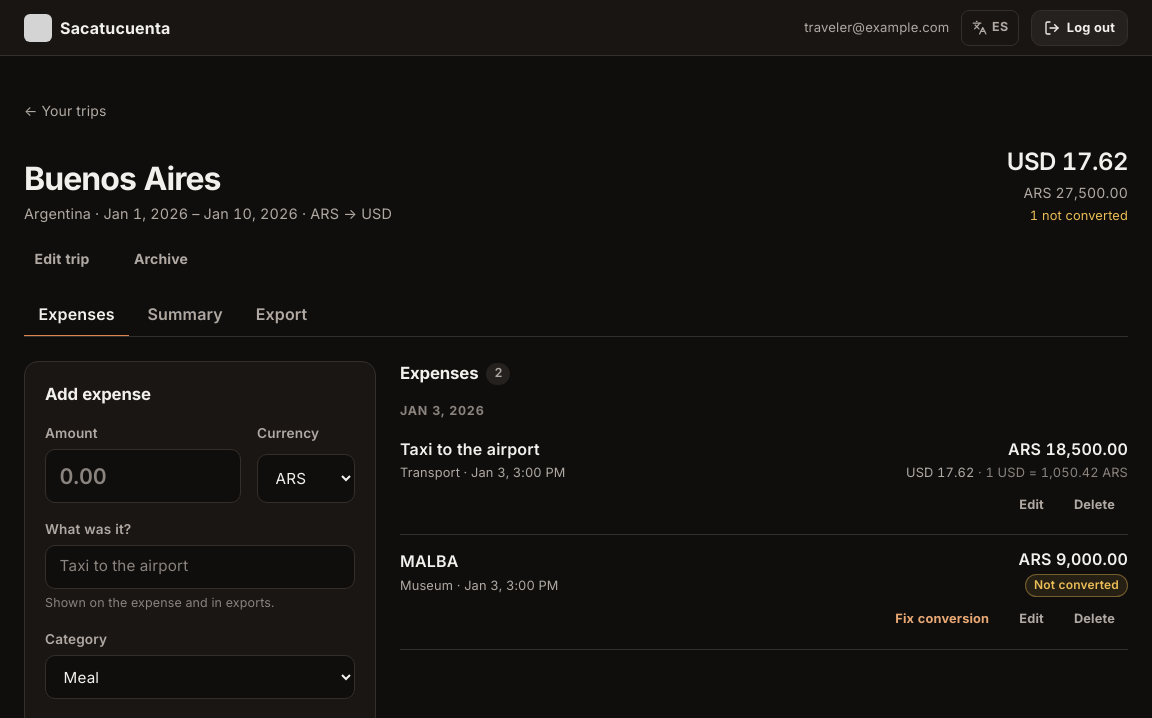
Scenario: trip view › adds an expense in the trip's local currency and keeps the form ready for the next one
In the number field labelled "Amount": (143, 476) [45,449,241,503], type "1500"
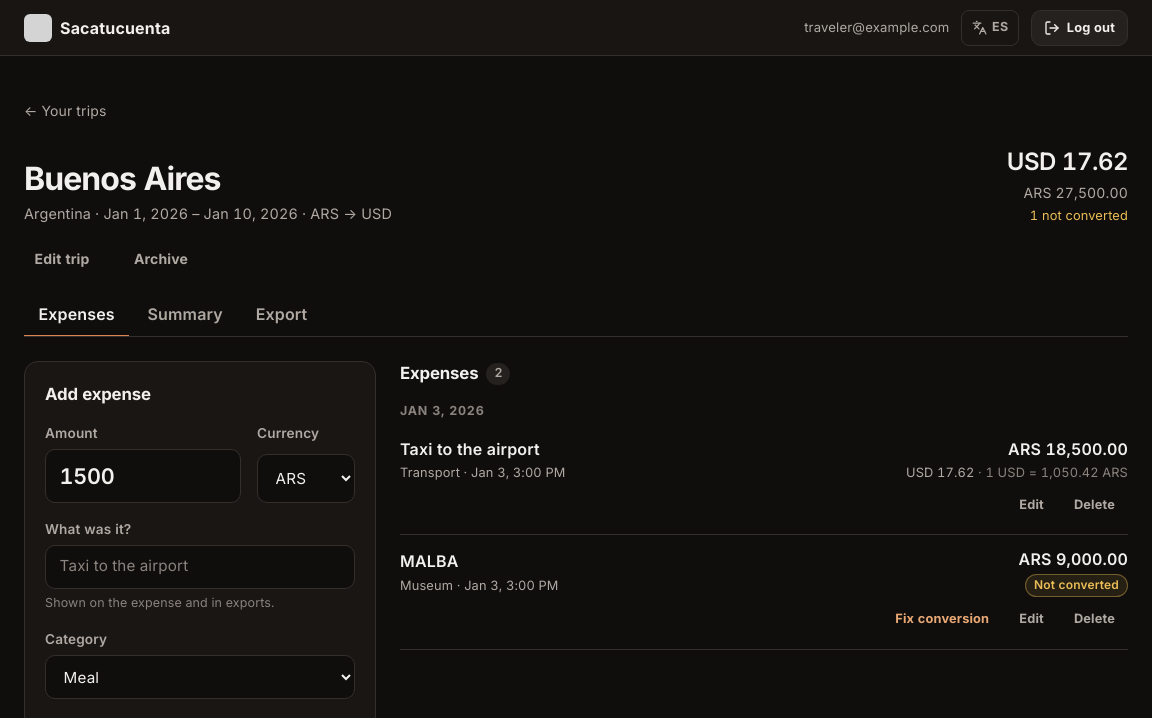
In the field labelled "What was it?": (200, 567) [45,545,355,589], type "Coffee"
(page scrolled)
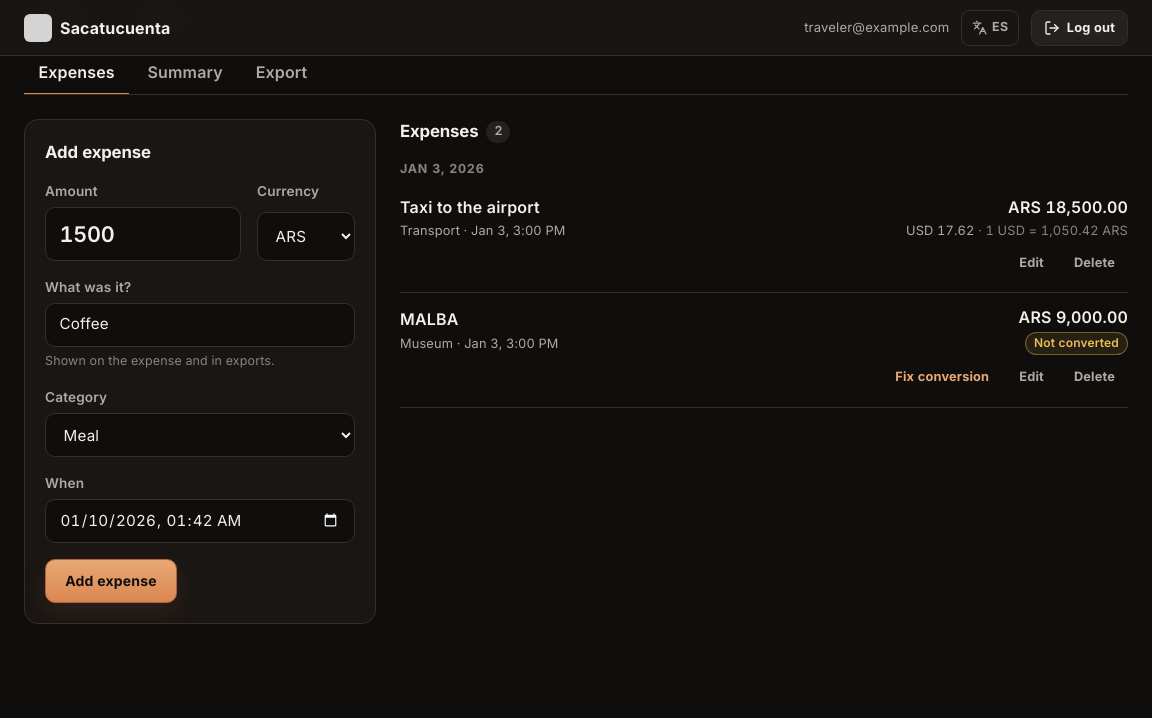
Click the button "Add expense": (111, 581) [45,559,177,603]
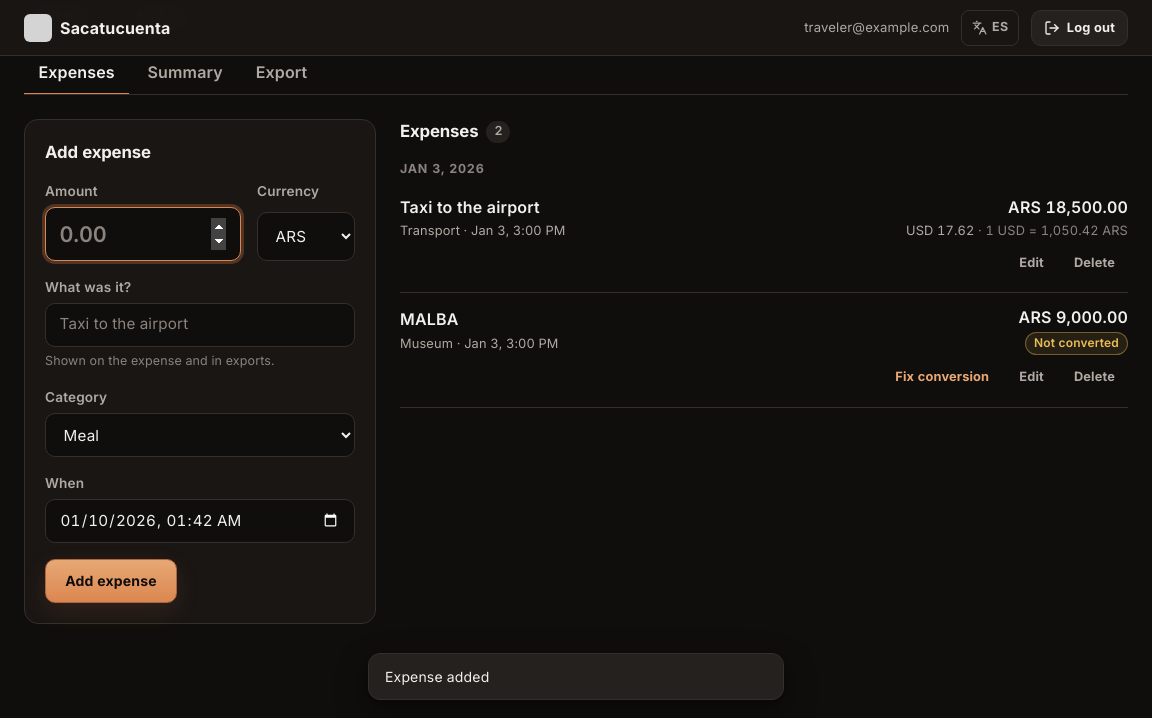
Expected: the text "Expense added" is shown, [385,666,489,687]
Expected: the number field labelled "Amount" is not empty, [45,207,241,261]
